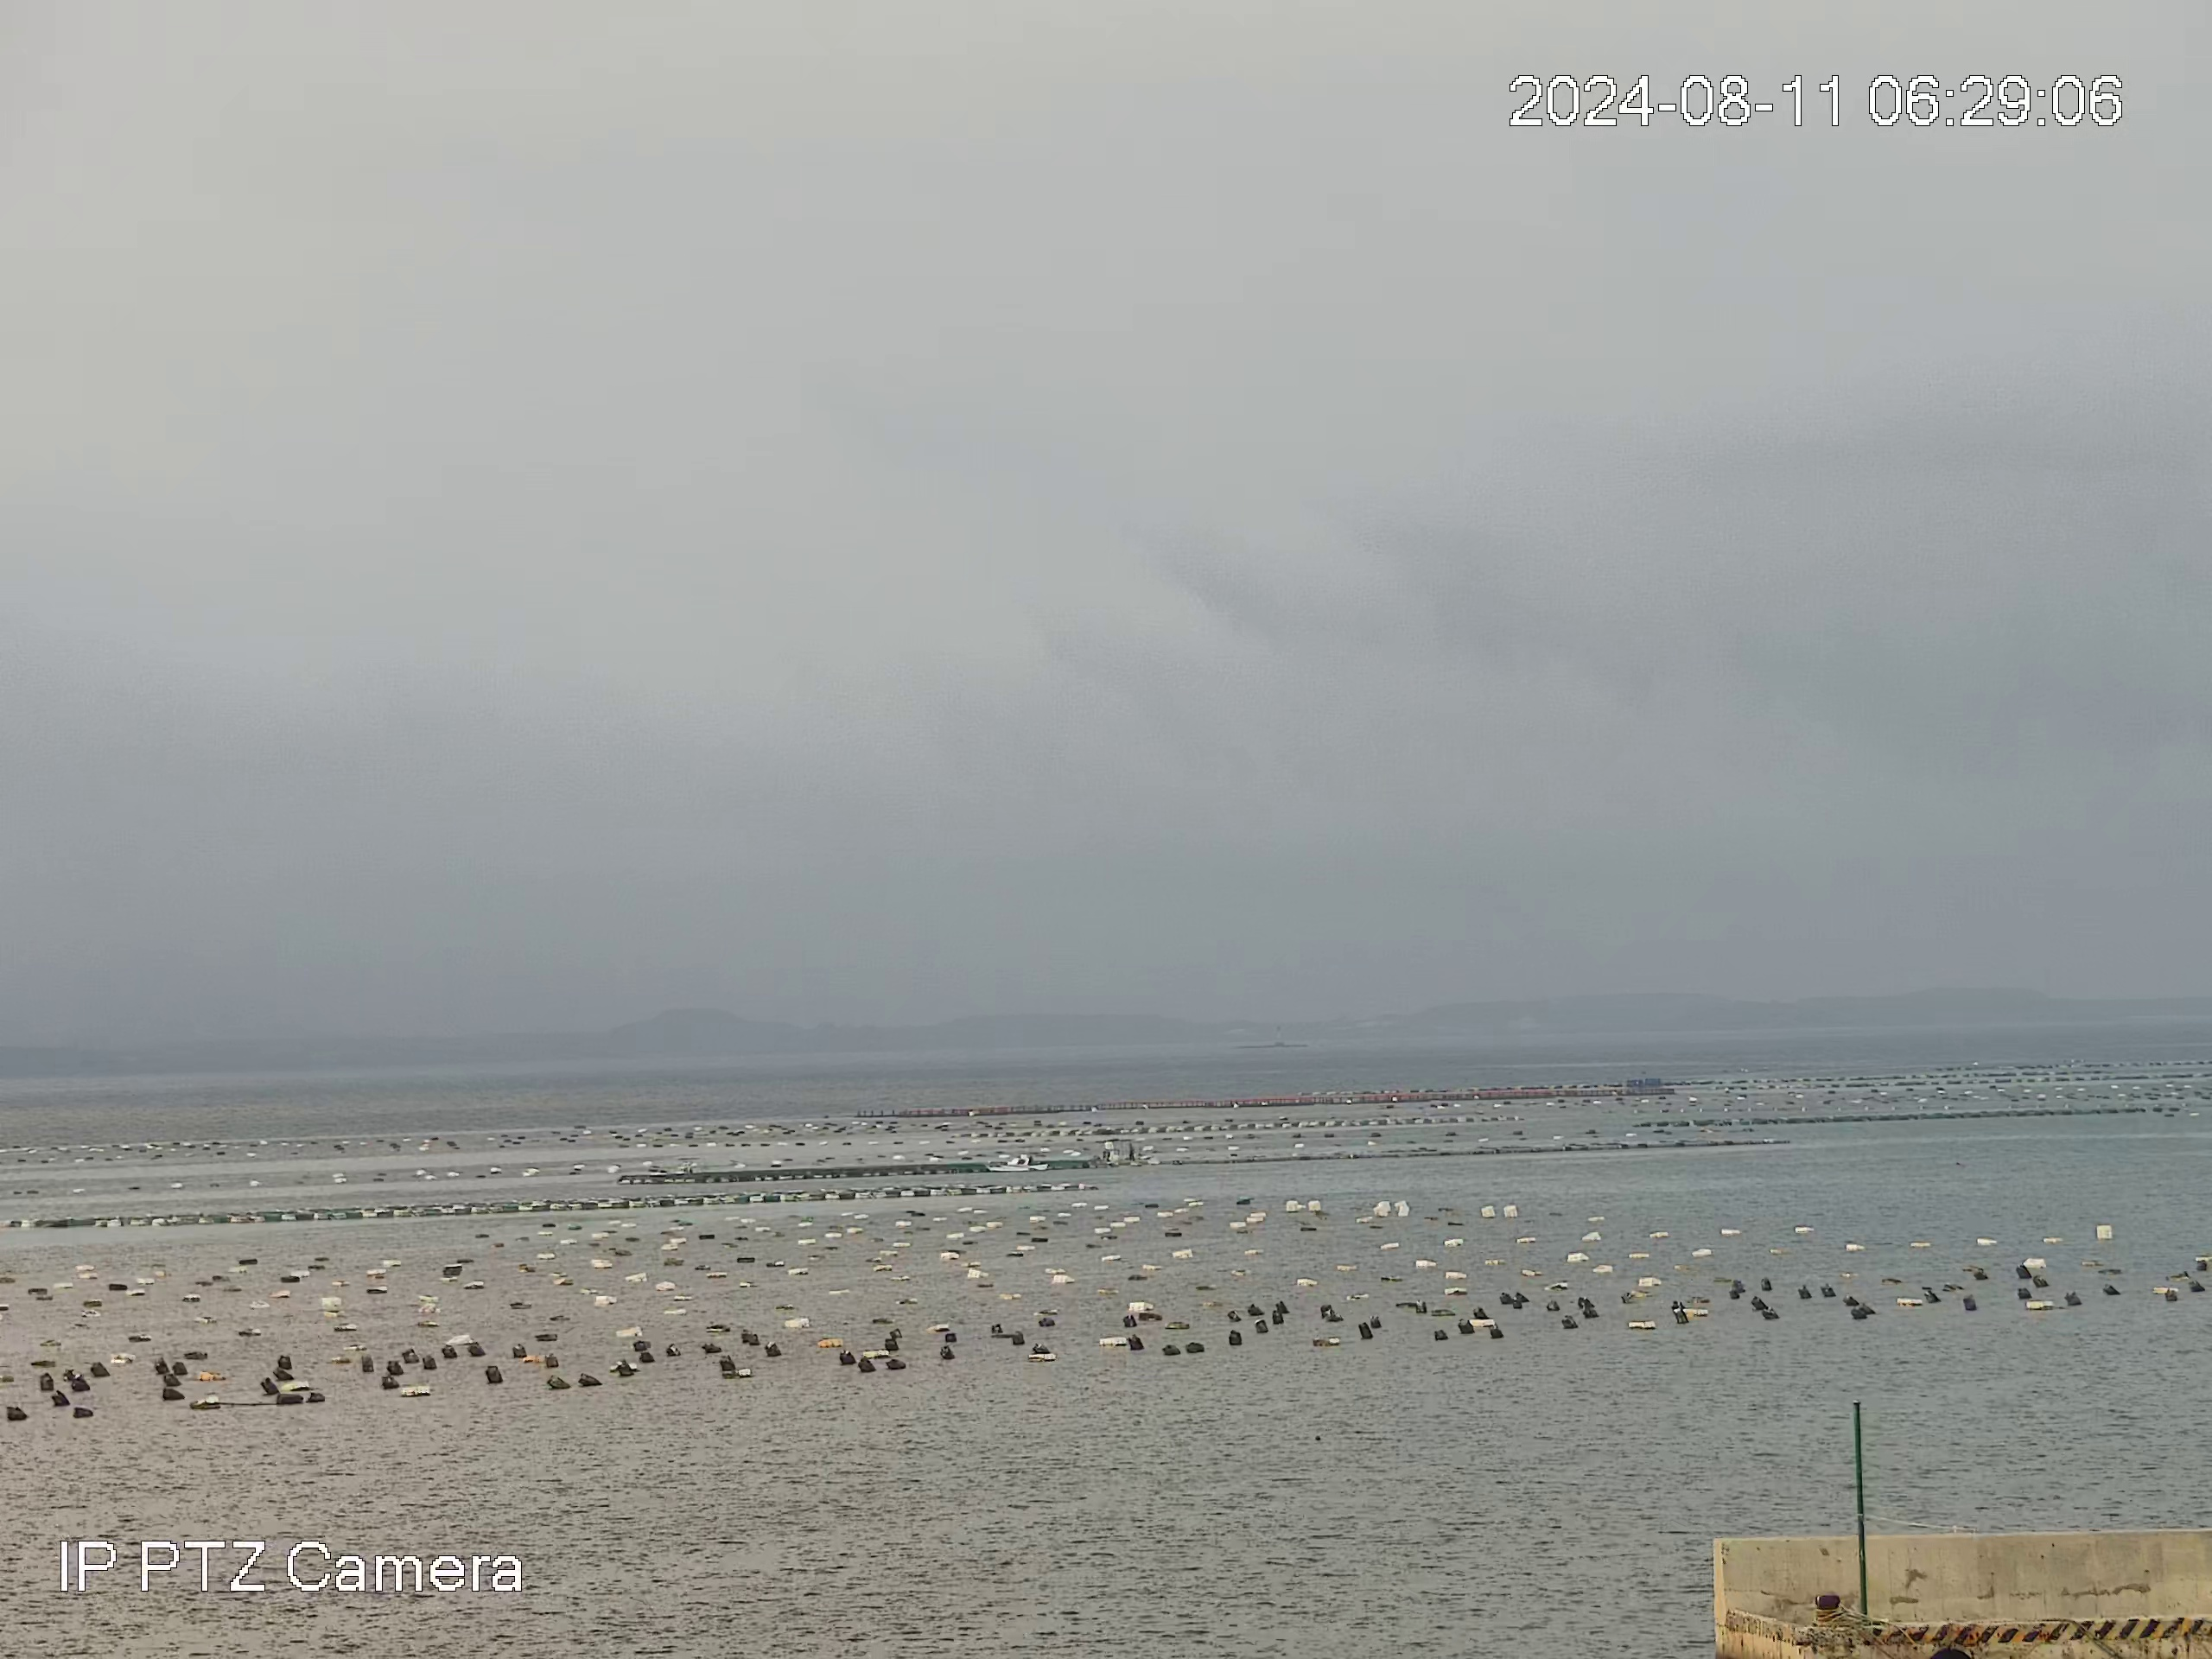boat: (982, 1152, 1050, 1173)
